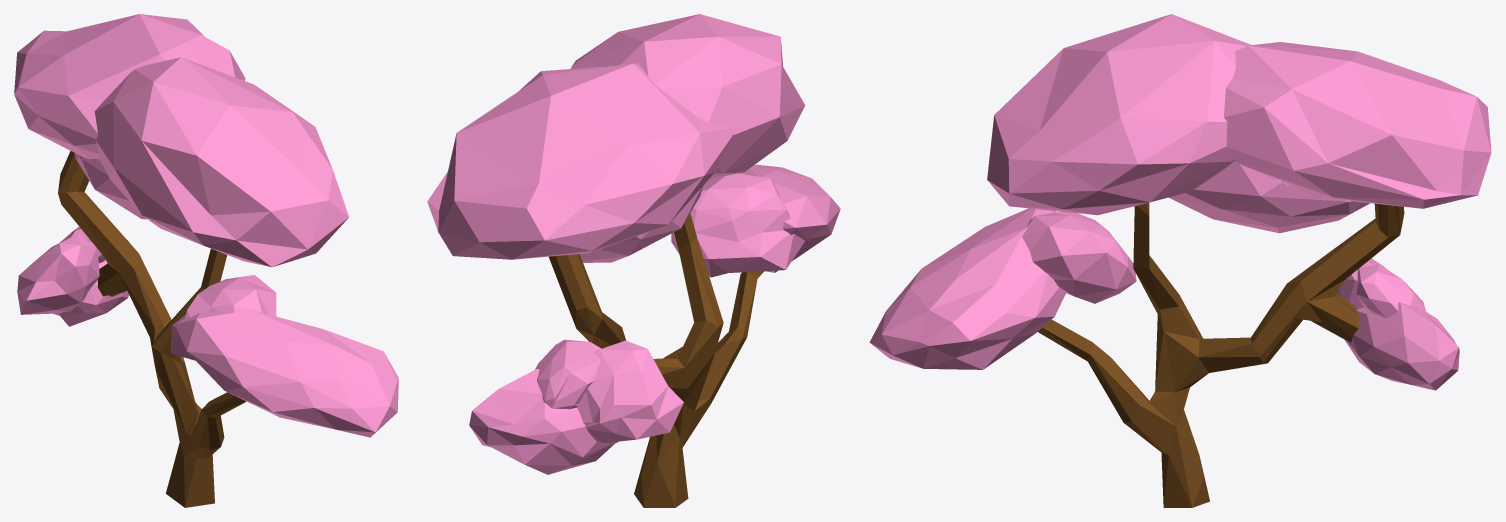
Rendered from Tree1.fbx.
3 renders of one model, left to right at view 1: azimuth 30°, elevation 25°; view 2: azimuth 150°, elevation 25°; view 3: azimuth 270°, elevation 25°, orthographic. The views are drawn at different scales.
Visible parts, largest first — view 1: Tree; view 2: Tree; view 3: Tree.
Boxes of the visible parts, left/top/right/bottom form: Tree: left=14, top=14, right=398, bottom=507; Tree: left=427, top=14, right=840, bottom=507; Tree: left=869, top=14, right=1491, bottom=507.
Size of the model in its own units: 388 by 802 by 975.
